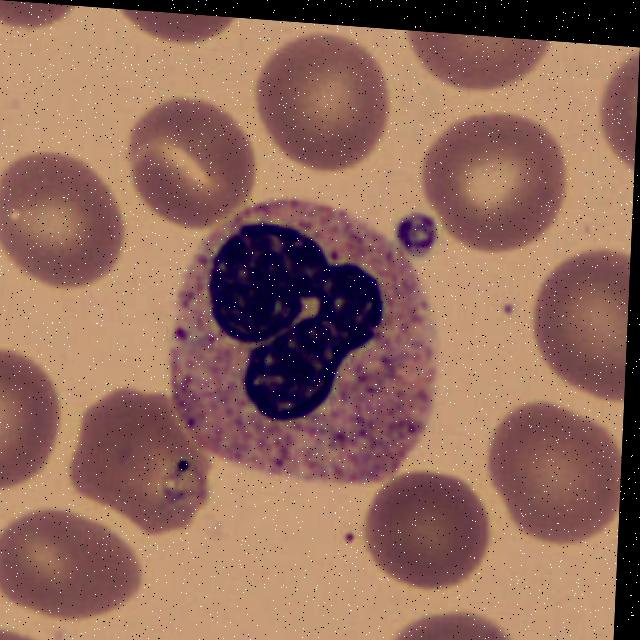neutrophil: (157, 182, 447, 498)
platelets: (394, 200, 448, 262)
rbc: (72, 386, 208, 538), (485, 402, 624, 550), (432, 113, 556, 254), (263, 33, 398, 161), (0, 507, 141, 624), (364, 466, 497, 590), (0, 156, 117, 289), (132, 101, 255, 227), (535, 255, 630, 387), (401, 30, 559, 89), (0, 351, 58, 503), (107, 8, 248, 49), (593, 63, 639, 172), (371, 610, 513, 640), (0, 0, 68, 33), (0, 633, 67, 640)
